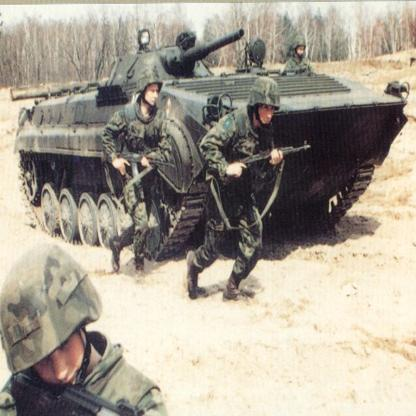Tank: (11, 26, 402, 256)
